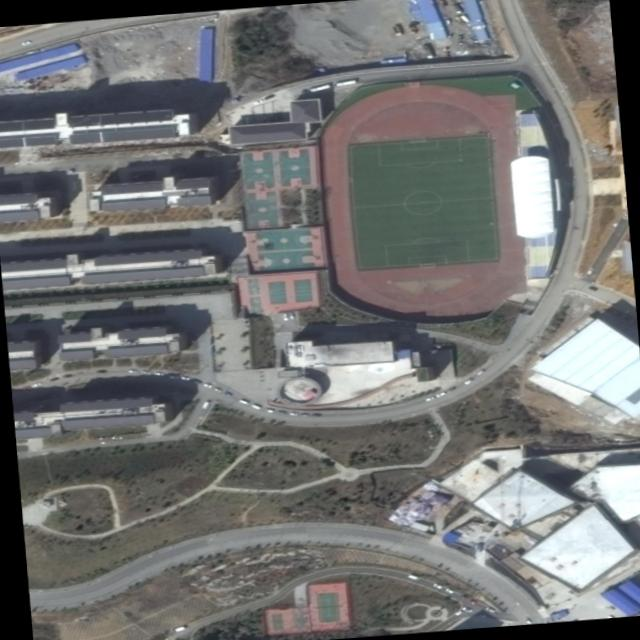large-vehicle: (308, 83, 330, 91), (335, 79, 355, 85), (406, 574, 416, 579)
small-vehicle: (248, 402, 259, 409), (431, 582, 441, 588), (200, 400, 208, 407), (483, 606, 494, 611), (460, 606, 471, 611), (19, 39, 30, 44), (445, 385, 454, 391), (462, 378, 471, 384), (434, 391, 444, 396), (190, 377, 200, 382), (262, 407, 272, 412), (586, 267, 593, 274), (444, 587, 453, 592), (424, 395, 433, 400), (587, 285, 596, 290), (202, 382, 211, 387), (211, 386, 220, 391), (237, 398, 246, 403), (523, 617, 530, 623), (281, 312, 287, 319), (47, 376, 57, 380), (179, 375, 189, 379), (222, 390, 230, 395), (299, 412, 309, 416), (154, 371, 163, 375), (475, 369, 482, 374), (32, 381, 40, 385), (310, 412, 320, 415), (288, 312, 293, 318), (288, 411, 297, 414), (141, 370, 149, 373), (168, 375, 178, 377), (96, 369, 105, 371), (275, 410, 284, 412), (62, 374, 70, 376), (128, 369, 135, 371)
